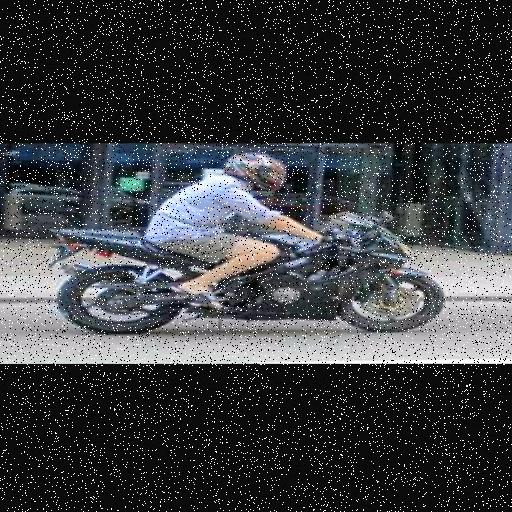Helmet: (232, 143, 287, 207)
Motor: (51, 204, 449, 344)
